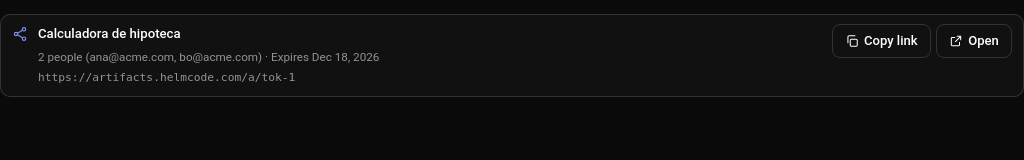
Test: SharedLinkCards › says so when the clipboard refuses
This screenshot has width=1024, height=160.
Click the button "Copy link" at (881, 41), box [832,24,931,58]
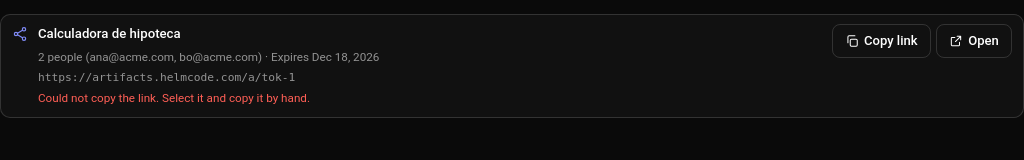
Now the message shows "Could not copy the link", box [38,91,310,105]
